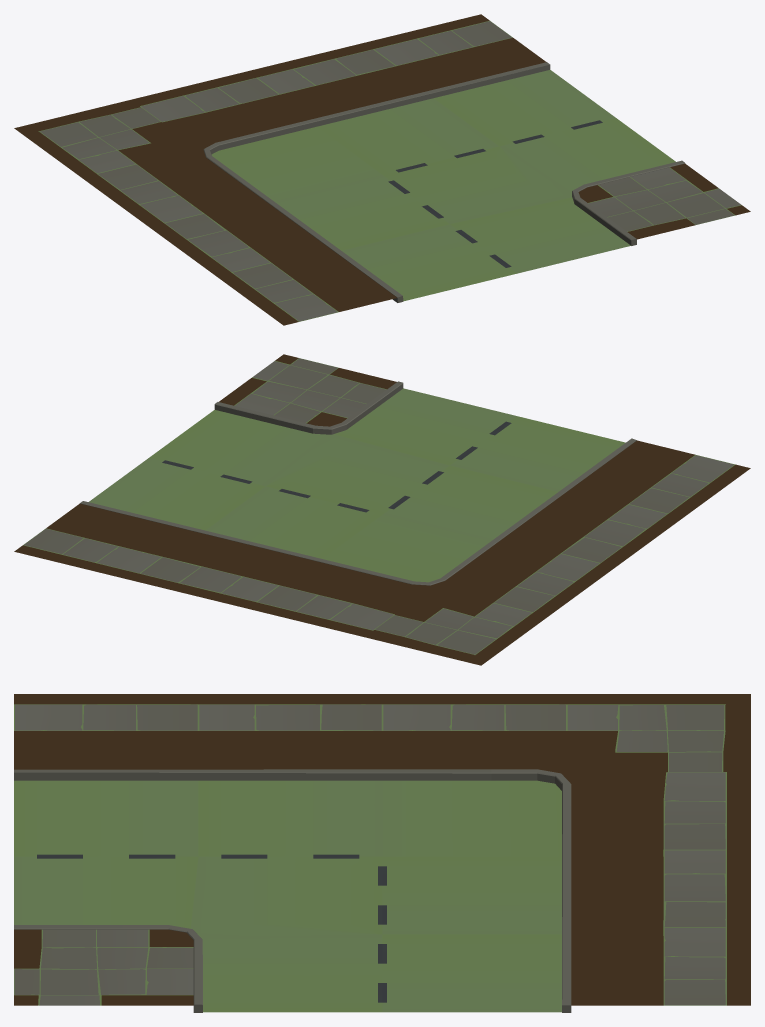
The model's file is Road_51.fbx.
3 renders of one model, top to bottom at view 1: azimuth 30°, elevation 25°; view 2: azimuth 150°, elevation 25°; view 3: azimuth 270°, elevation 25°, orthographic. The views are drawn at different scales.
Visible parts, largest first — view 1: Road_51; view 2: Road_51; view 3: Road_51.
Boxes of the visible parts, x1=… form: Road_51: x1=14, y1=14, x2=750, y2=325; Road_51: x1=14, y1=354, x2=750, y2=665; Road_51: x1=14, y1=694, x2=750, y2=1012.
Size of the model in its own units: 12 by 0.15 by 12.
